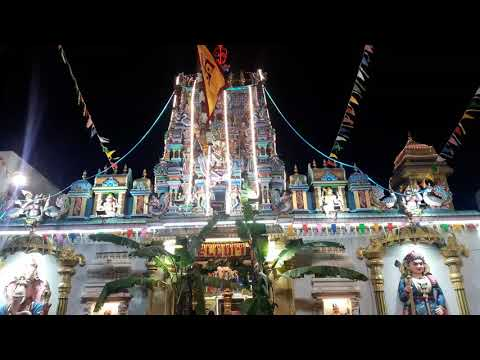Buddhist Temple: (47, 47, 470, 313)
